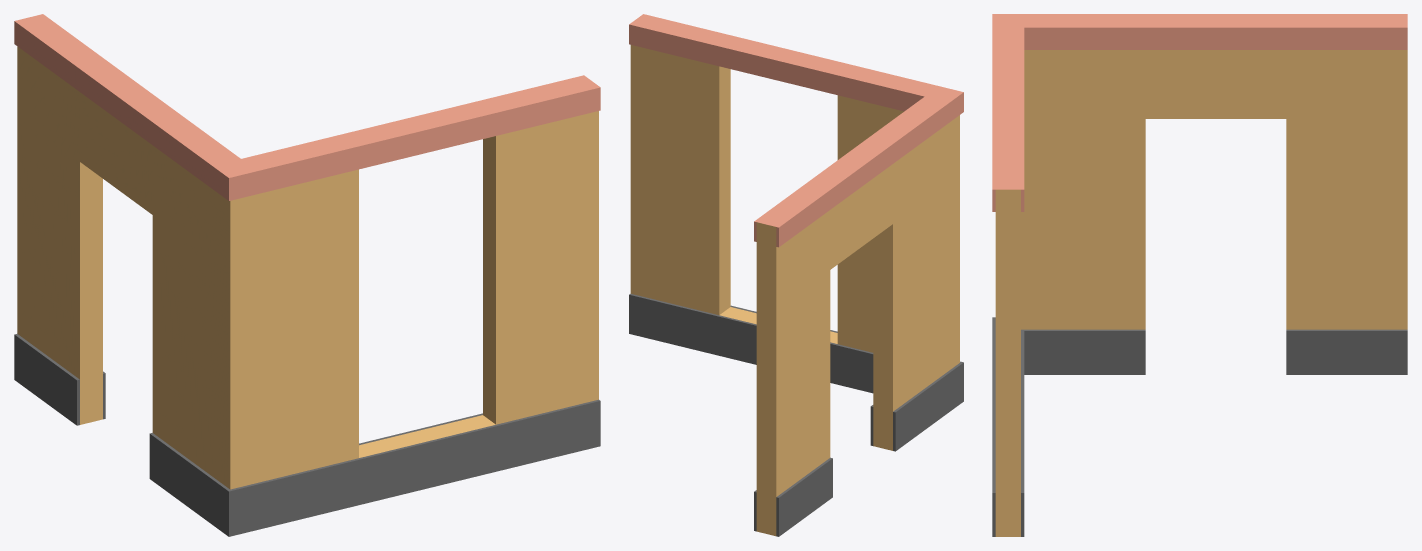
The model's file is Wall06-02.fbx.
The picture shows the model from 3 angles, left to right: view 1: azimuth 30°, elevation 25°; view 2: azimuth 150°, elevation 25°; view 3: azimuth 270°, elevation 25°; orthographic projection. The views are drawn at different scales.
Visible parts, largest first — view 1: Wall06-02; view 2: Wall06-02; view 3: Wall06-02.
Boxes of the visible parts, x1,y1,x2,y2 form: Wall06-02: (14,14,600,536); Wall06-02: (629,14,963,536); Wall06-02: (992,14,1407,536).
Bounding box in the file's own units: 3.25 × 3.25 × 3.
